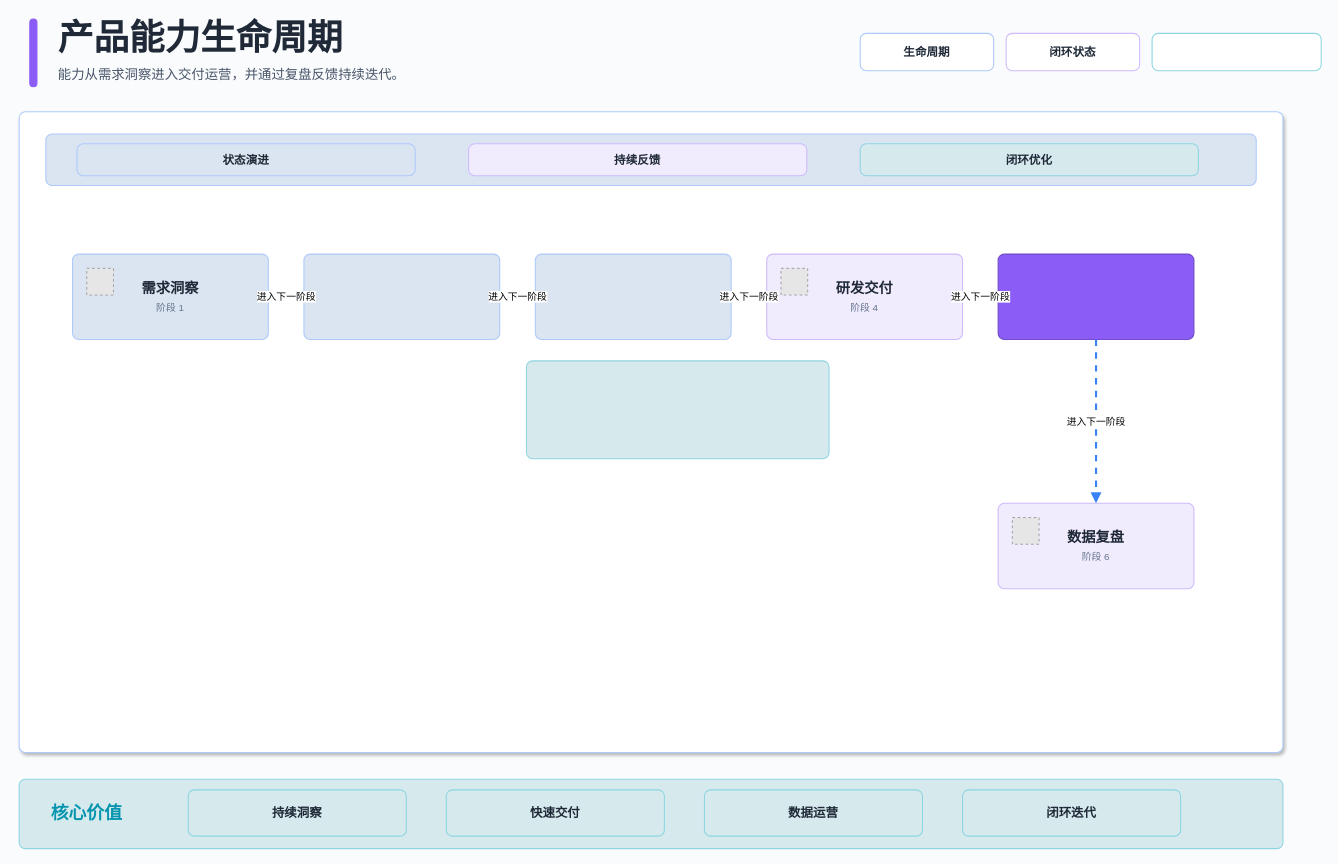
This 1338x864 diagram has some shape labels left out. Grey dashed boxes stand in for pictures. Each missing label, with the centre of its shape:
"Vibrant" belongs at point (1236, 51).
"上线运营 阶段 5" belongs at point (1095, 296).
"产品规划 阶段 2" belongs at point (401, 296).
"持续反馈闭环 能力从需求洞察进入交付运营，并通过复盘反馈持续迭代。" belongs at point (677, 409).
"方案设计 阶段 3" belongs at point (632, 296).
